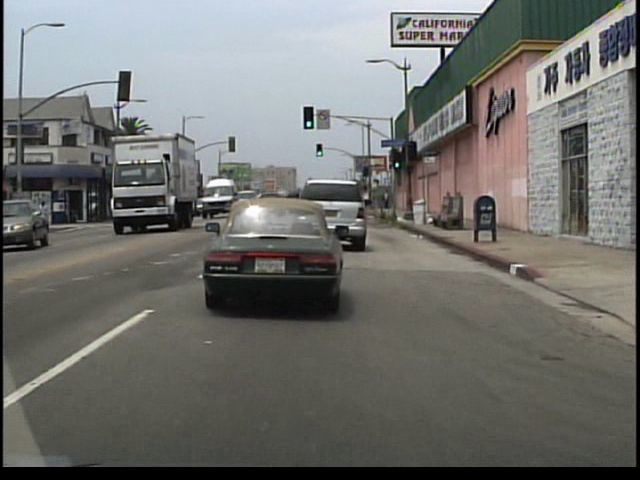person: (37, 201, 48, 230), (381, 189, 391, 209)
